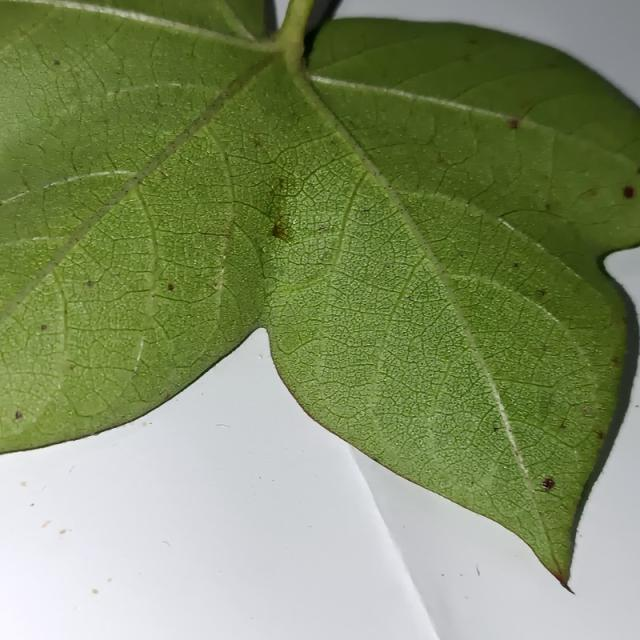Bacterial_Blight: (530, 462, 569, 500), (266, 222, 301, 241), (614, 181, 639, 204), (34, 318, 59, 338), (551, 569, 569, 588), (164, 278, 178, 296), (254, 243, 265, 262), (562, 583, 575, 596), (211, 278, 223, 292), (299, 55, 310, 70), (130, 173, 143, 185), (583, 188, 598, 198), (406, 293, 418, 303), (359, 205, 374, 213), (277, 176, 285, 190), (508, 119, 518, 130), (582, 406, 593, 416), (224, 230, 233, 242), (14, 410, 24, 420), (536, 288, 547, 297), (317, 225, 329, 233), (253, 138, 262, 148), (85, 280, 95, 288), (437, 154, 445, 164), (541, 343, 549, 353), (468, 38, 479, 45), (492, 424, 501, 432), (612, 357, 621, 365), (161, 393, 169, 402), (596, 431, 604, 439), (372, 456, 380, 463), (53, 59, 61, 66), (41, 324, 48, 331), (69, 364, 76, 371), (513, 262, 520, 269), (559, 423, 567, 429), (545, 203, 551, 211), (637, 167, 640, 174)
Cotton: (0, 5, 639, 575)
